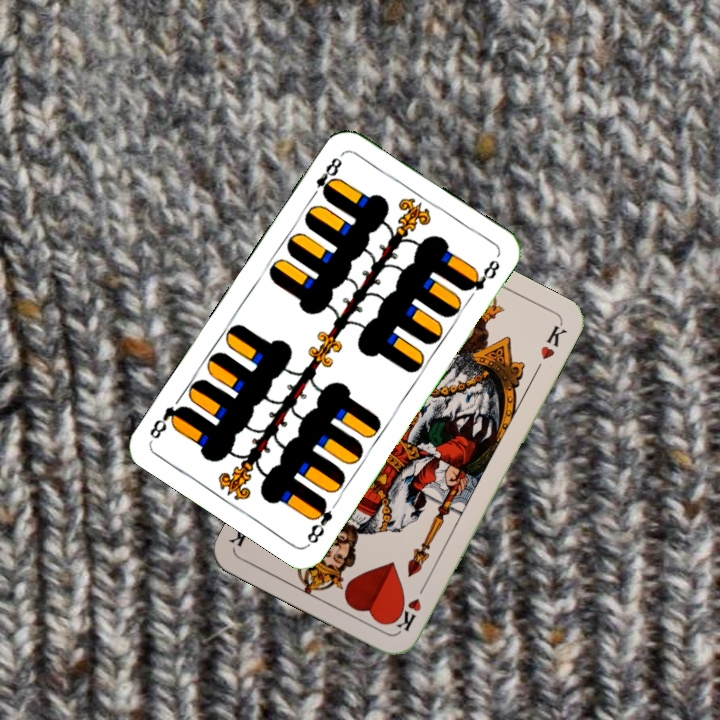E8: (307, 153, 345, 202), (303, 494, 335, 547)
HK: (389, 578, 429, 634)
